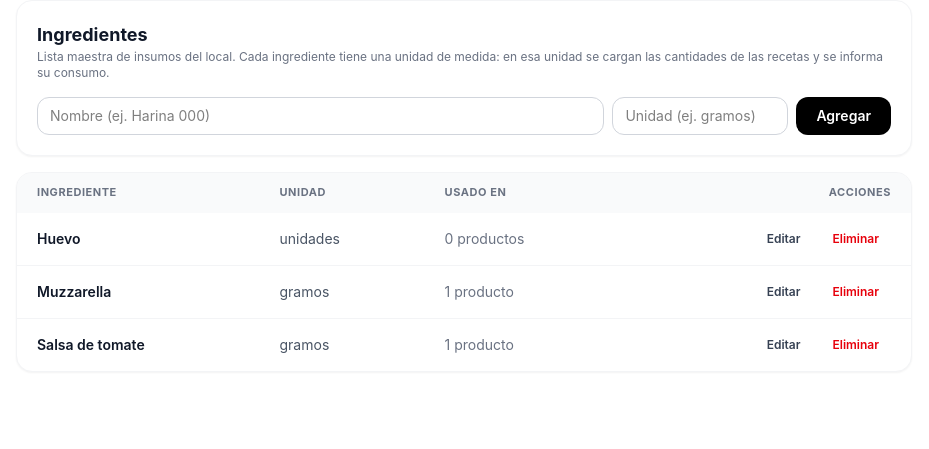
Test: IngredientesView › valida nombre y unidad antes de agregar
The image size is (929, 449).
Expected: the cell "Muzzarella" is shown, [17,265,260,318]
Step 1. Type "Harina" into the field named "Nombre del nuevo ingrediente" → (321, 116), box [37,97,604,135]
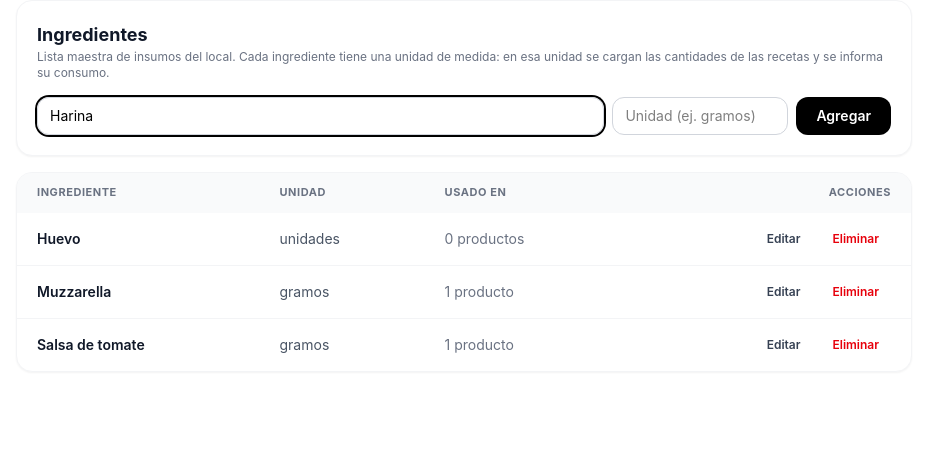
Step 2. Click the button "Agregar" → (844, 116), box [796,97,891,135]
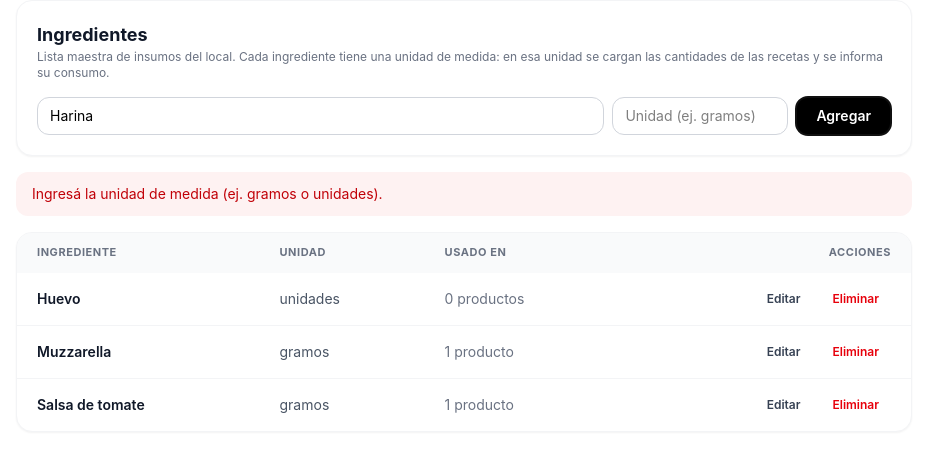
Now the message shows "Ingresá la unidad de medida", box [32,185,383,202]
